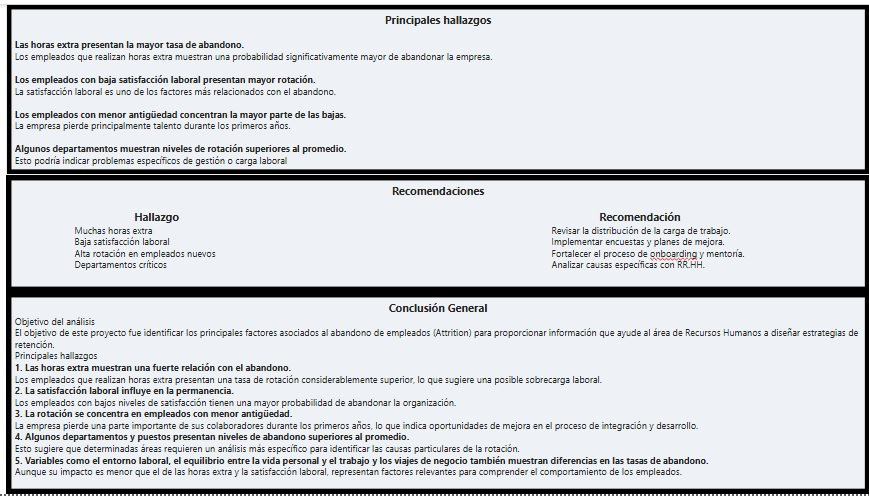

This screenshot's page, from the dashboard's own definition file:
{"tool":"powerbi","page":{"name":"Insights & Recommendations","canvas":[1280,720],"ordinal":3},"visuals":[{"type":"textbox","box":[10.3,0,1269.6,241],"z":0},{"type":"textbox","box":[10.3,251.3,1269.6,155.8],"z":1},{"type":"textbox","box":[10.3,423.2,1269.6,296.8],"z":2}]}

Visuals, with their boxes in screenshot pixels (x1, y1, x2, y2), scaled from the page's 1280x720 canvas onto the 869x497 screenshot:
textbox: <bbox>7, 0, 868, 166</bbox>
textbox: <bbox>7, 173, 868, 281</bbox>
textbox: <bbox>7, 292, 868, 496</bbox>
